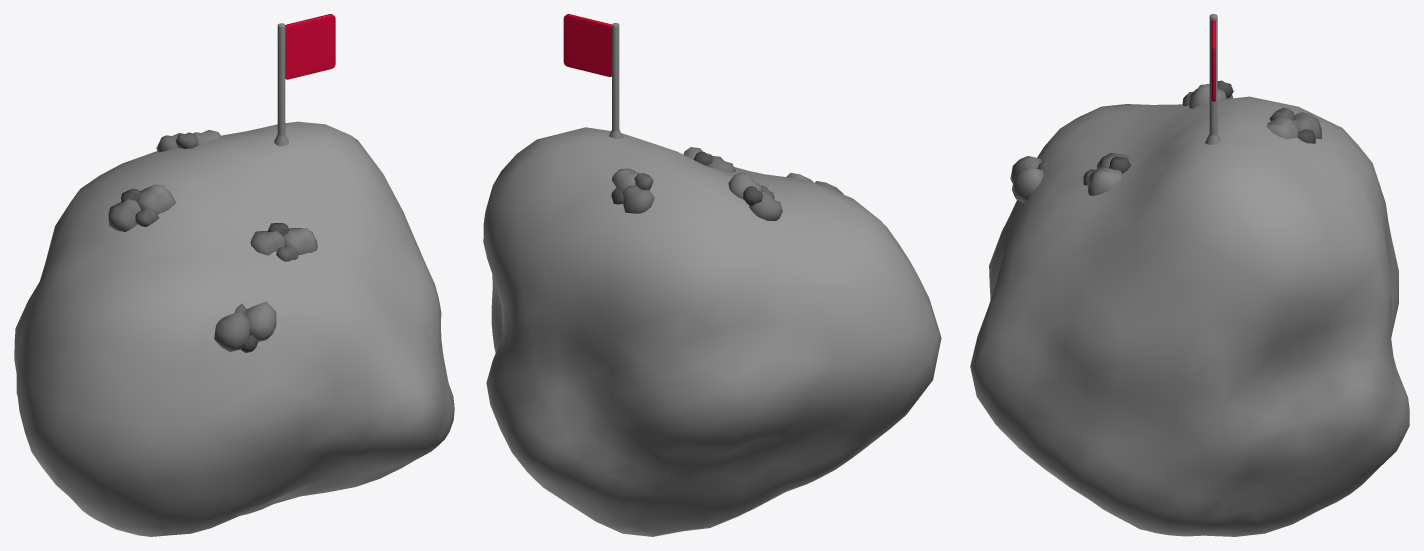
Rendered from AboutMe.fbx.
The picture shows the model from 3 angles, left to right: view 1: azimuth 30°, elevation 25°; view 2: azimuth 150°, elevation 25°; view 3: azimuth 270°, elevation 25°; orthographic projection. The views are drawn at different scales.
Parts seen in each view (by area): view 1: Icosphere, Cube, Cylinder, Icosphere.015, Icosphere.014, Icosphere.003, Icosphere.002, Icosphere.006, Icosphere.007; view 2: Icosphere, Cube, Cylinder, Icosphere.011, Icosphere.002; view 3: Icosphere, Cylinder, Icosphere.014, Icosphere.006, Icosphere.010.
Part boxes in pixels (x1,y1,x2,y2): Icosphere: [14, 121, 454, 536]; Cube: [285, 14, 335, 79]; Cylinder: [274, 23, 288, 146]; Icosphere.015: [214, 311, 250, 351]; Icosphere.014: [245, 301, 276, 341]; Icosphere.003: [136, 184, 176, 214]; Icosphere.002: [108, 199, 140, 231]; Icosphere.006: [283, 228, 317, 254]; Icosphere.007: [250, 231, 284, 255]; Icosphere: [483, 127, 941, 536]; Cube: [563, 14, 611, 76]; Cylinder: [609, 23, 623, 138]; Icosphere.011: [622, 185, 654, 213]; Icosphere.002: [749, 190, 782, 220]; Icosphere: [970, 96, 1409, 536]; Cylinder: [1205, 14, 1220, 144]; Icosphere.014: [1011, 167, 1043, 202]; Icosphere.006: [1087, 166, 1122, 195]; Icosphere.010: [1267, 117, 1299, 139].
Bounding box in the file's own units: 285 × 323 × 243.
